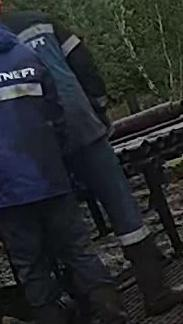vest: (11, 13, 94, 149), (0, 47, 57, 208)
